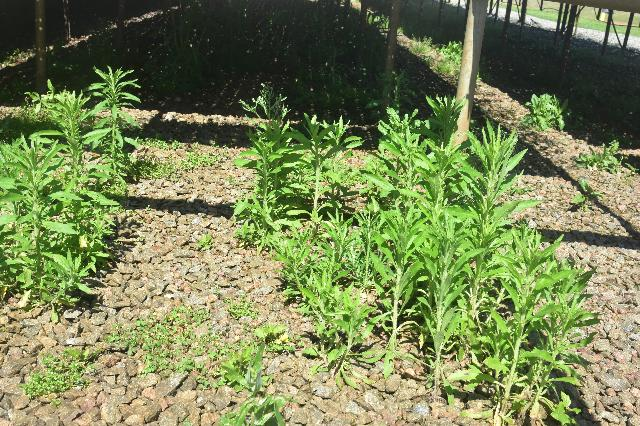MalezaMontesDelPlata: (294, 115, 366, 380), (413, 89, 475, 391), (460, 124, 531, 376), (4, 130, 92, 310), (512, 261, 606, 422), (484, 228, 557, 424), (370, 101, 426, 346), (231, 75, 301, 262), (28, 82, 104, 225), (84, 60, 143, 196), (103, 310, 214, 380), (219, 323, 287, 426), (19, 337, 102, 401), (138, 133, 231, 183), (572, 132, 637, 177), (519, 90, 578, 139), (557, 177, 617, 209)
